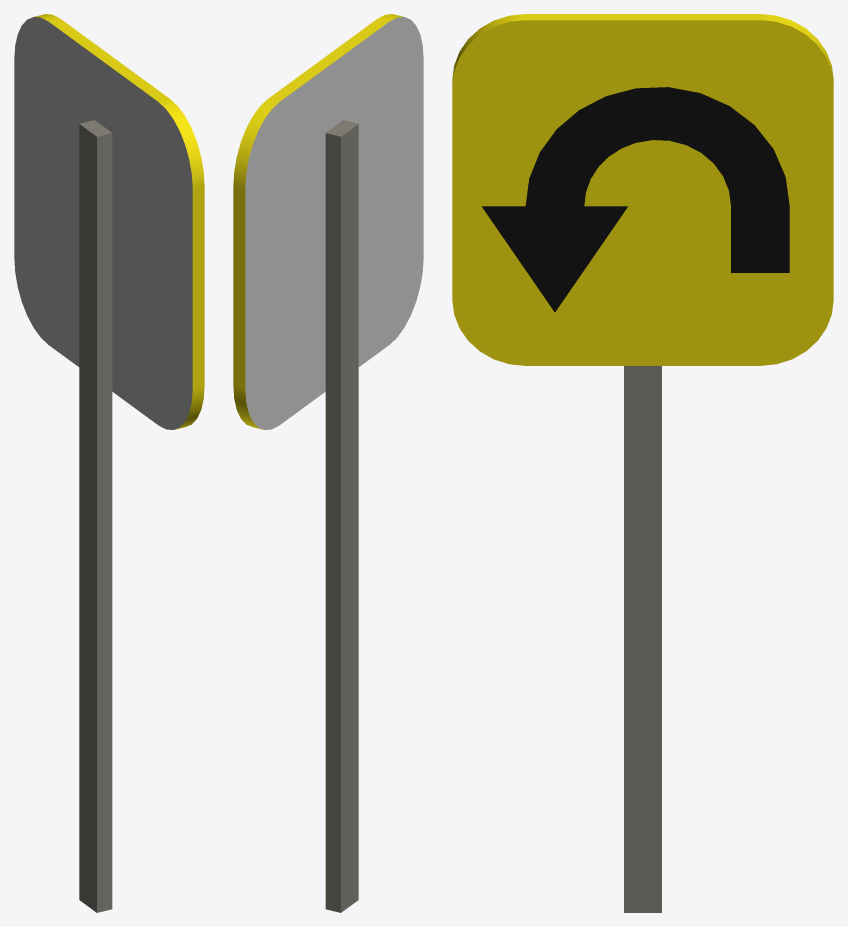
The model's file is Prop_Track_Sign_Upcoming_Curve_180.obj.
3 renders of one model, left to right at view 1: azimuth 30°, elevation 25°; view 2: azimuth 150°, elevation 25°; view 3: azimuth 270°, elevation 25°, orthographic. The views are drawn at different scales.
Visible parts, largest first — view 1: object2, object1; view 2: object2, object1; view 3: object2, object1.
Part boxes in pixels (left/top/right/bottom): object2: left=14, top=14, right=204, bottom=429; object1: left=79, top=120, right=112, bottom=912; object2: left=233, top=14, right=423, bottom=429; object1: left=325, top=120, right=358, bottom=912; object2: left=452, top=14, right=833, bottom=365; object1: left=624, top=366, right=661, bottom=912.
Size of the model in its own units: 0.0457 by 1.34 by 0.5161.
